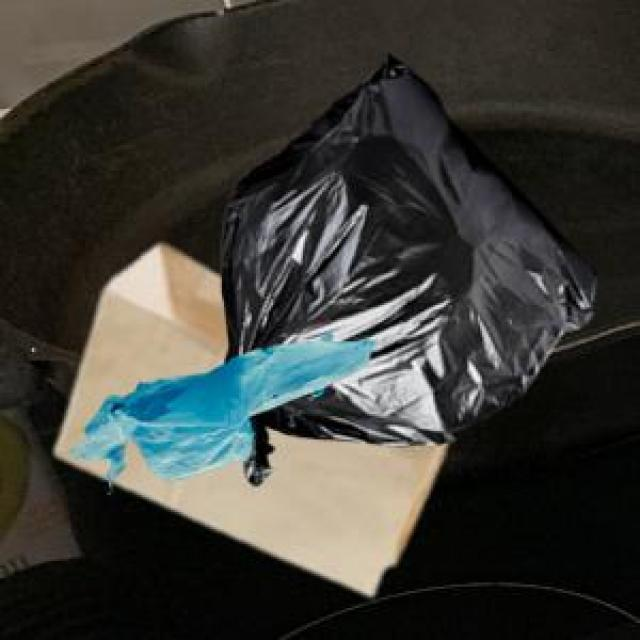miscellaneous trash: (218, 49, 591, 482)
paper: (51, 241, 441, 591)
